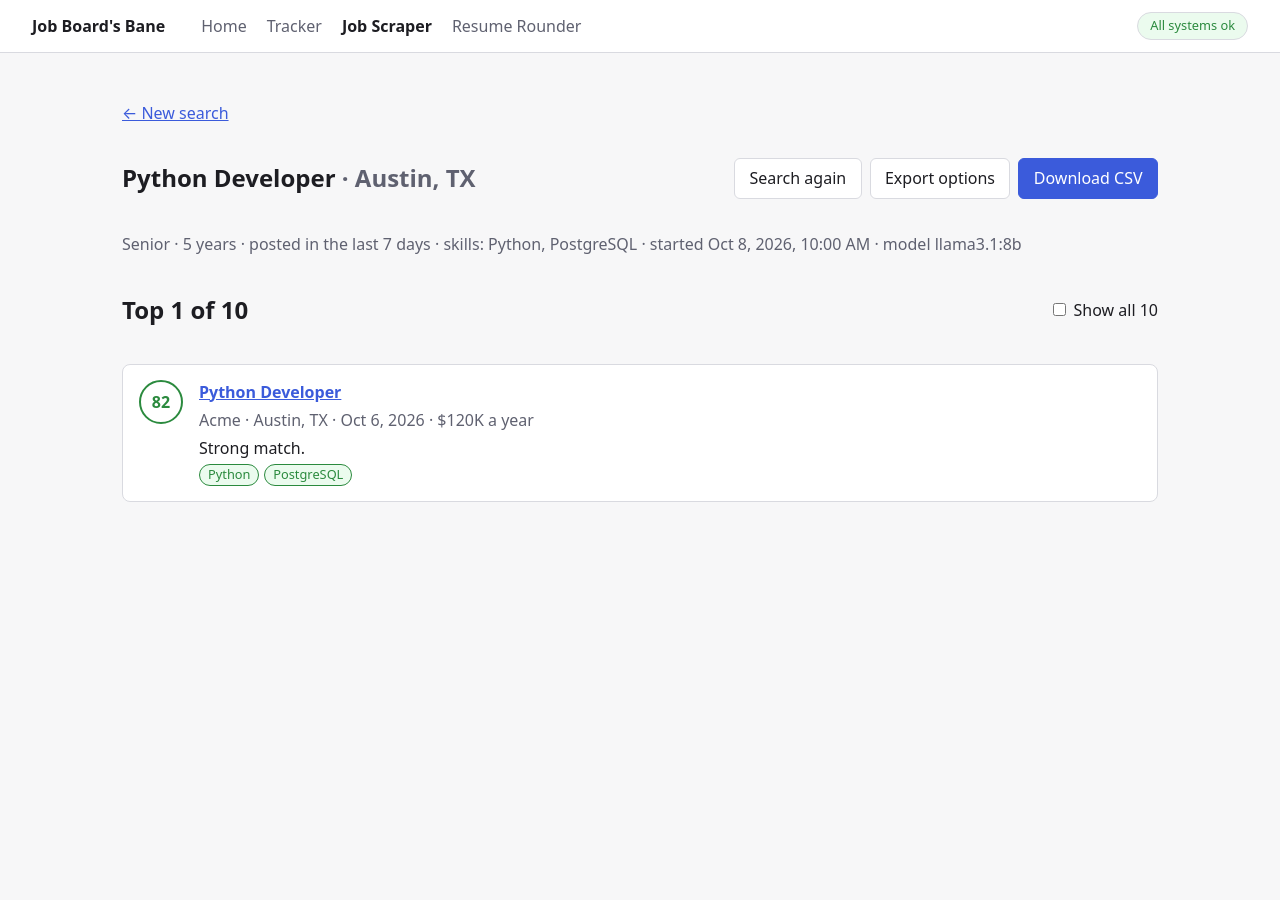
Test case: RunPage › expands a posting to show sub-scores and the description
expect the heading "Python Developer · Austin, TX" is shown: met, box [122,160,476,196]
Click the text "Strong match." at coordinates (252, 448), box [199,437,305,459]
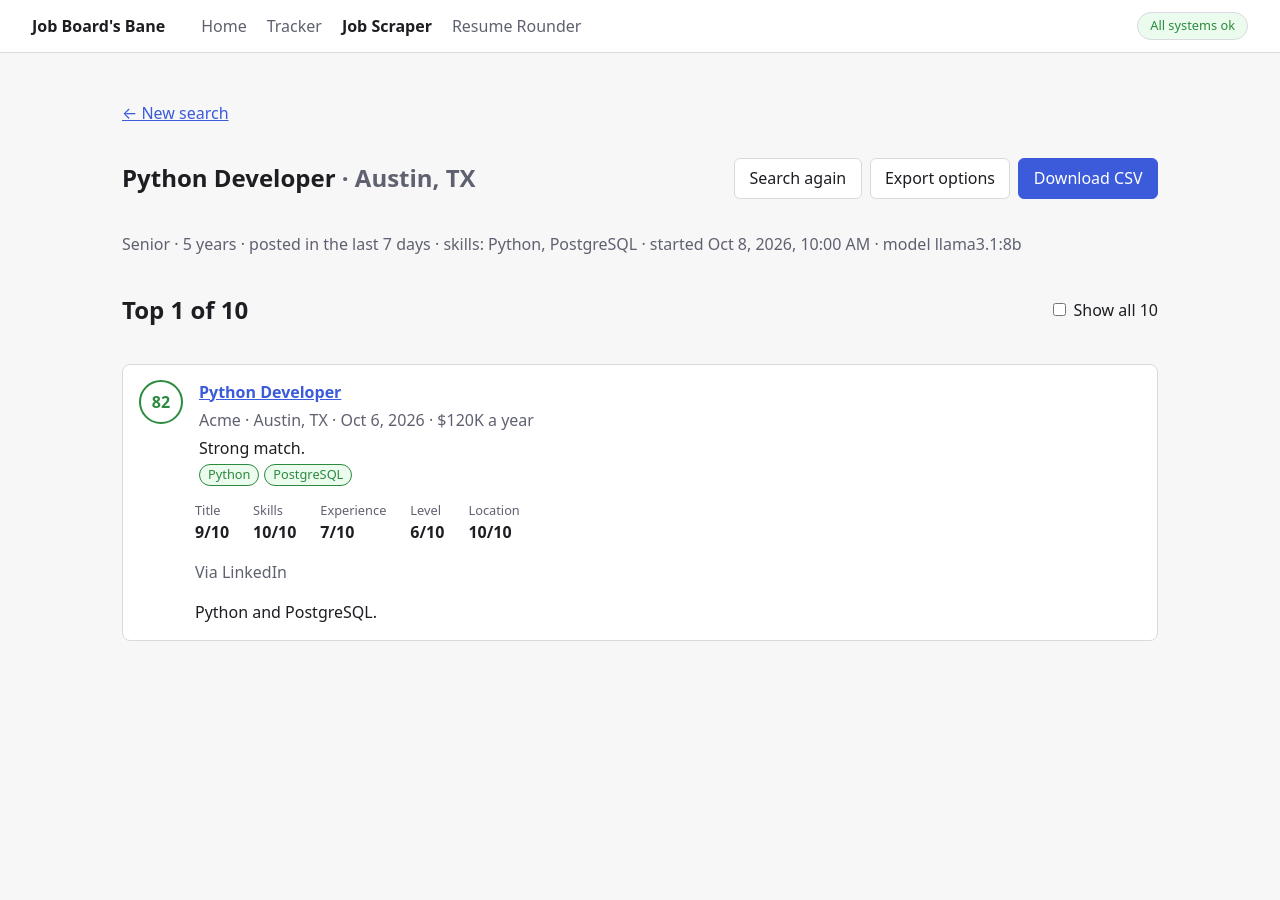
expect the text "Python and PostgreSQL." is shown: met, box [195,601,377,623]
expect the text "9/10" is shown: met, box [195,520,229,544]
